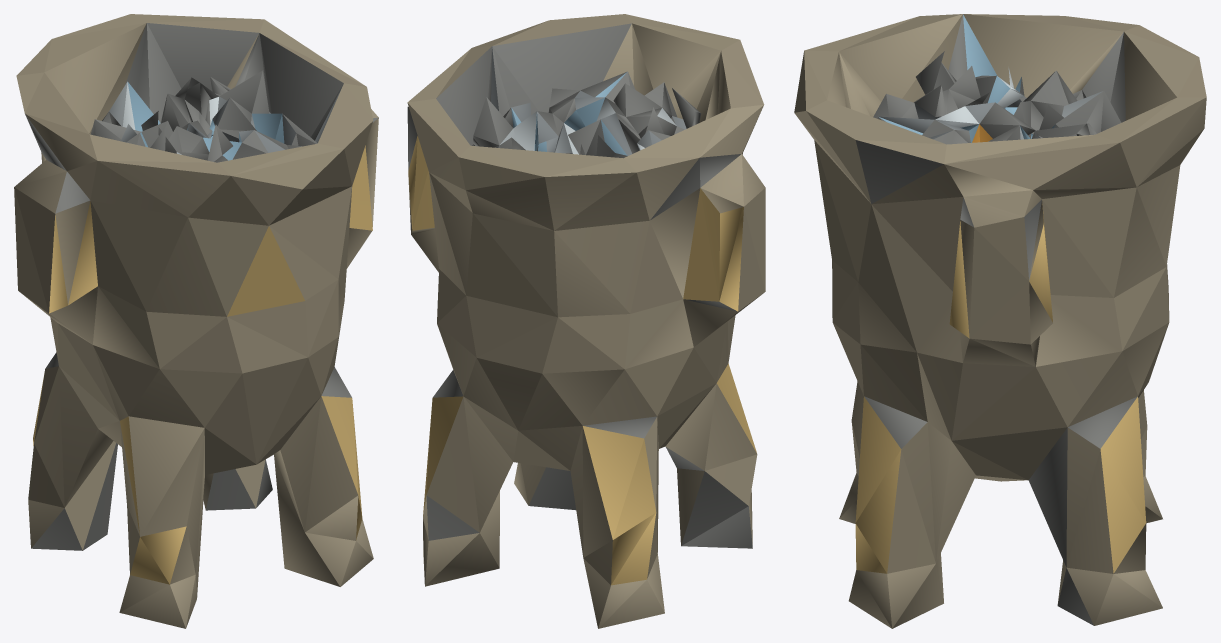
Rendered from copal_censer.glb.
3 renders of one model, left to right at view 1: azimuth 30°, elevation 25°; view 2: azimuth 150°, elevation 25°; view 3: azimuth 270°, elevation 25°, orthographic. The views are drawn at different scales.
Parts seen in each view (by area): view 1: Mesh_0; view 2: Mesh_0; view 3: Mesh_0.
Part boxes in pixels (bbox=[...]): Mesh_0: bbox=[14, 14, 378, 628]; Mesh_0: bbox=[407, 14, 765, 628]; Mesh_0: bbox=[794, 14, 1206, 628].
Bounding box in the file's own units: 0.2 × 0.26 × 0.2.
